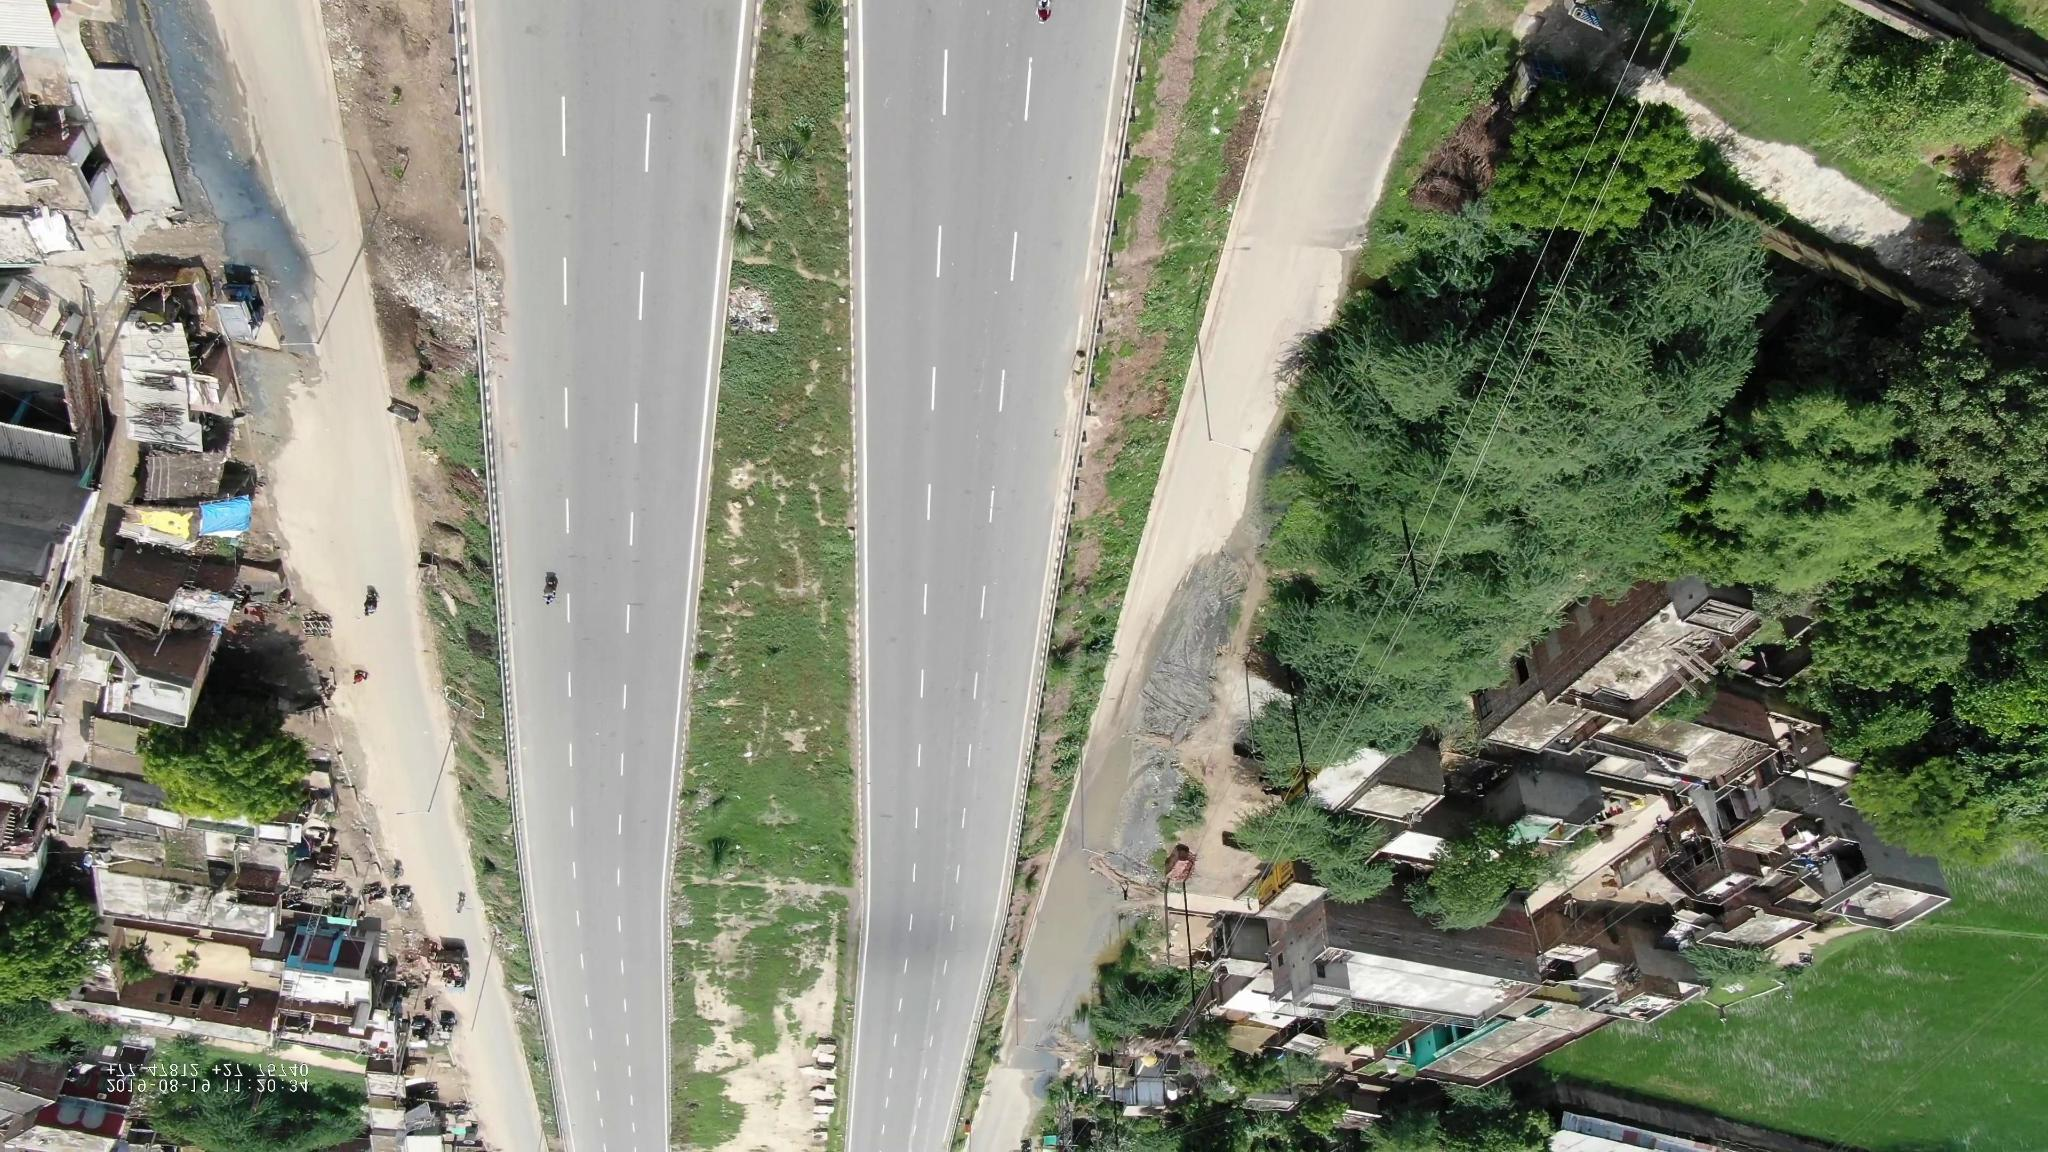Waterlogging: (1014, 729, 1139, 1032)
